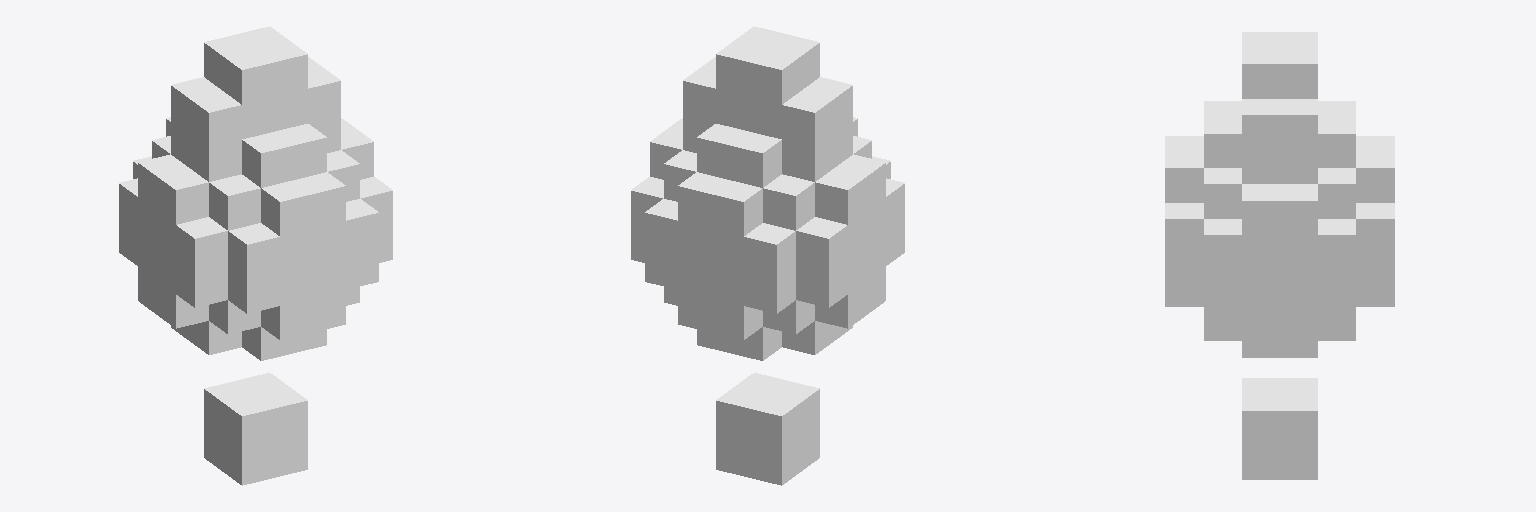
The model's file is hungry.obj.
The picture shows the model from 3 angles: view 1: azimuth 30°, elevation 25°; view 2: azimuth 150°, elevation 25°; view 3: azimuth 270°, elevation 25°; orthographic projection.
Visible parts, largest first — view 1: hungry; view 2: hungry; view 3: hungry.
Part boxes in pixels (left/top/right/bottom): hungry: left=119, top=26, right=392, bottom=485; hungry: left=631, top=26, right=904, bottom=485; hungry: left=1165, top=32, right=1394, bottom=479.
Bounding box in the file's own units: 0.6 × 1.2 × 0.6.